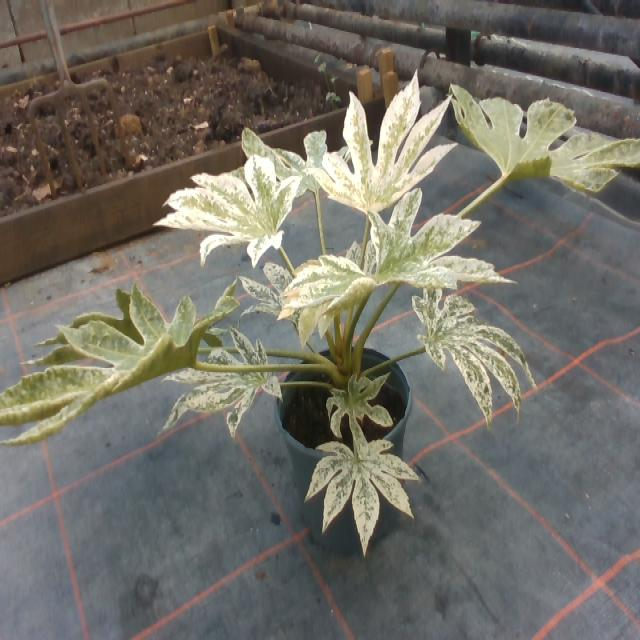Fatsia-japonica: (1, 285, 249, 469), (455, 72, 639, 238), (280, 202, 502, 324), (136, 120, 294, 269), (411, 276, 540, 431), (316, 71, 446, 211), (156, 314, 290, 448), (217, 118, 369, 202), (306, 424, 418, 536), (240, 248, 328, 328), (322, 362, 387, 432)
